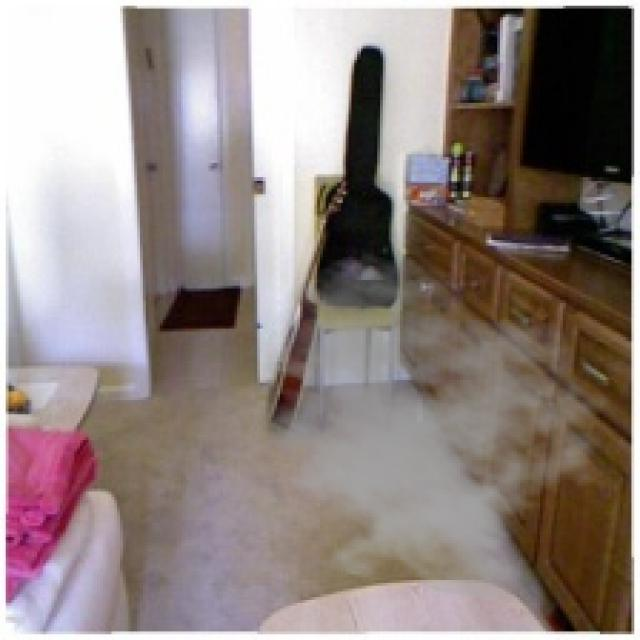smoke: (226, 251, 617, 606)
